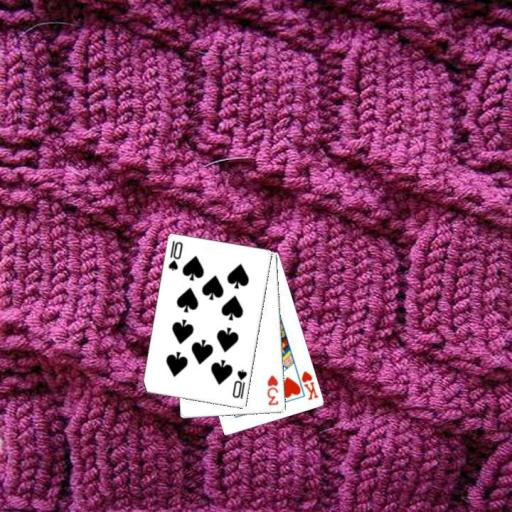10S: (230, 366, 249, 401), (165, 238, 184, 273)
3H: (265, 372, 280, 407)
KH: (299, 368, 320, 402)
